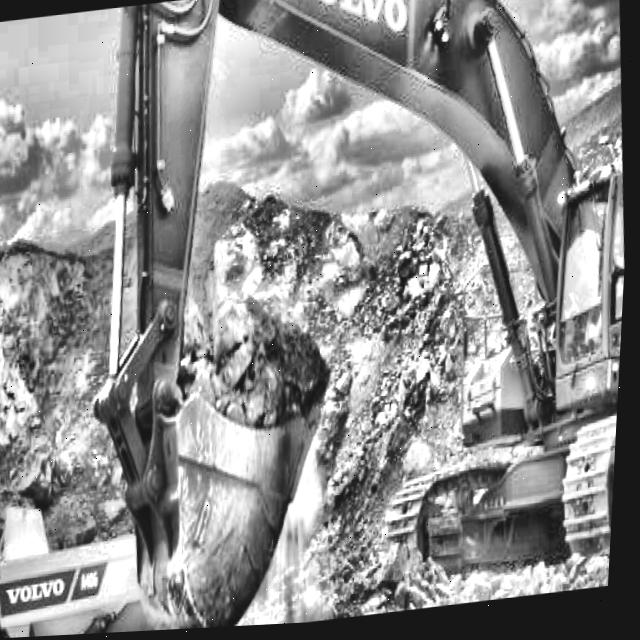dump_truck: (0, 444, 263, 640)
excavator: (58, 0, 640, 637)
